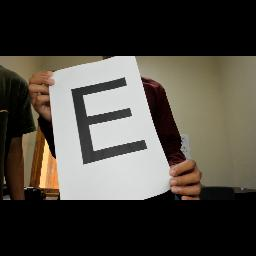e: (68, 74, 152, 168)
